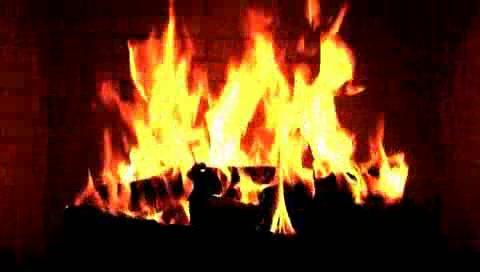fire: (83, 0, 428, 233)
